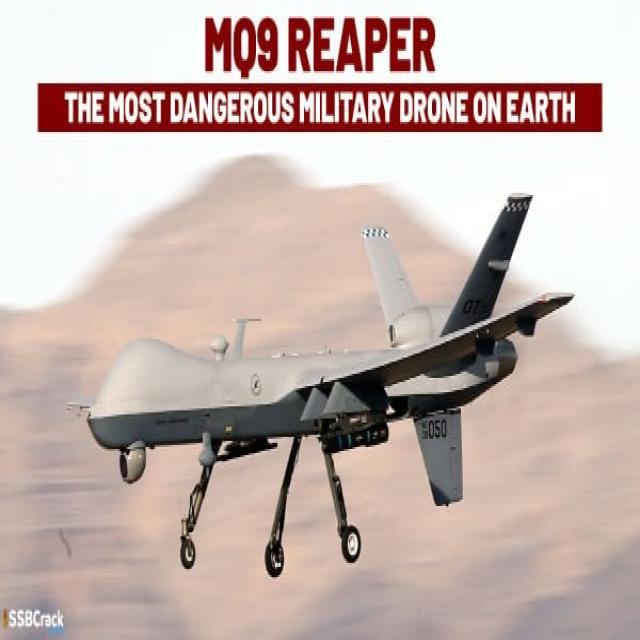MQ9: (67, 168, 591, 640)
